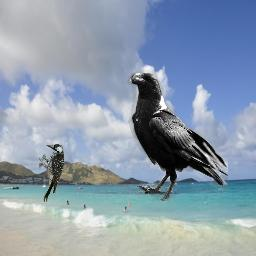Crow: (126, 70, 228, 201)
Woodpecker: (39, 144, 64, 202)
